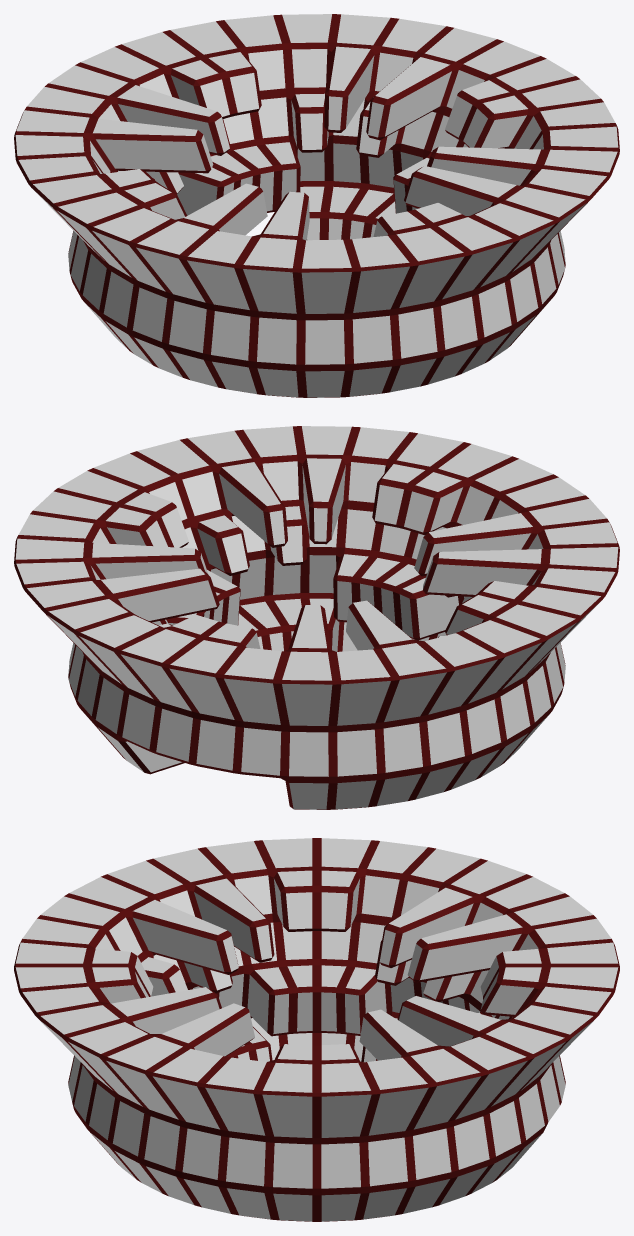
Rendered from arena1.glb.
The picture shows the model from 3 angles, top to bottom: view 1: azimuth 30°, elevation 25°; view 2: azimuth 150°, elevation 25°; view 3: azimuth 270°, elevation 25°; orthographic projection.
Parts seen in each view (by area): view 1: arena-col; view 2: arena-col; view 3: arena-col.
Boxes of the visible parts, box(x1,y1,x2,y2) form: arena-col: box(14, 14, 619, 397); arena-col: box(14, 426, 619, 809); arena-col: box(14, 838, 619, 1221).
Size of the model in its own units: 129 by 39.73 by 129.
